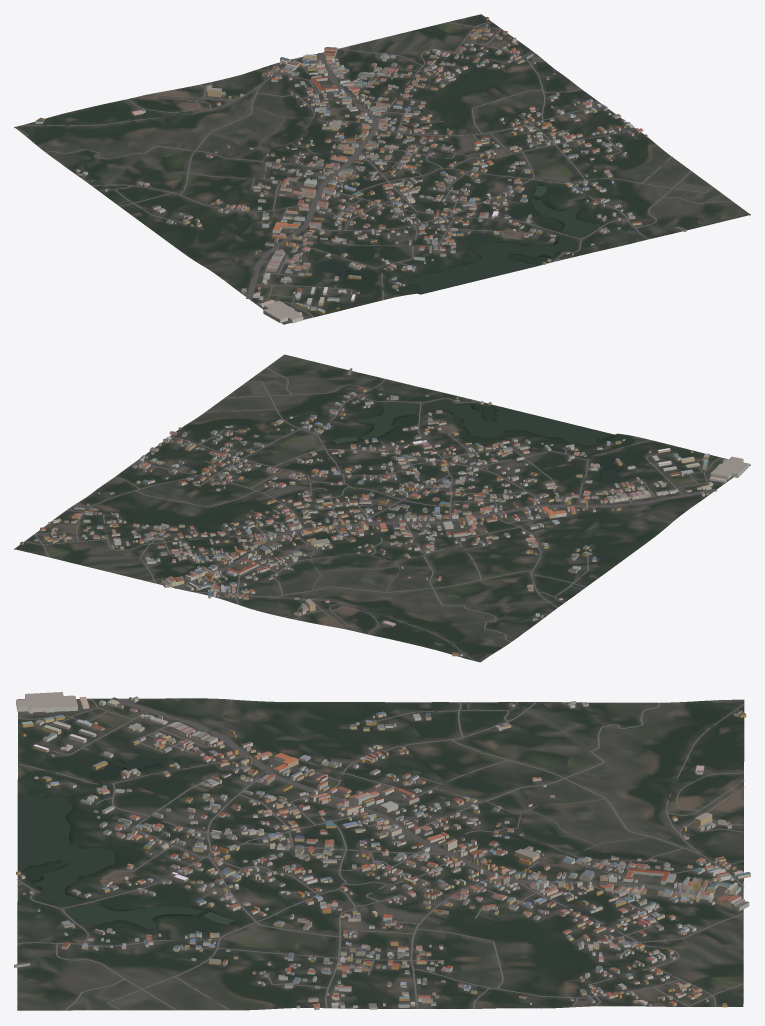
3 views of the same model, one above another, from view 1: azimuth 30°, elevation 25°; view 2: azimuth 150°, elevation 25°; view 3: azimuth 270°, elevation 25° (orthographic). The views are drawn at different scales.
Visible parts, largest first — view 1: ground, buildings, roads, water; view 2: ground, buildings, roads, water; view 3: ground, buildings, roads, water.
Part boxes in pixels (bbox=[...]): ground: bbox=[14, 14, 750, 324]; buildings: bbox=[35, 17, 686, 323]; roads: bbox=[14, 21, 732, 317]; water: bbox=[318, 186, 598, 293]; ground: bbox=[14, 354, 750, 662]; buildings: bbox=[20, 368, 749, 656]; roads: bbox=[24, 367, 723, 662]; water: bbox=[333, 399, 618, 484]; ground: bbox=[17, 698, 744, 1010]; buildings: bbox=[14, 692, 750, 1009]; roads: bbox=[17, 697, 744, 1010]; water: bbox=[18, 757, 234, 928].
Size of the model in its own units: 1420 by 31.57 by 1422.
